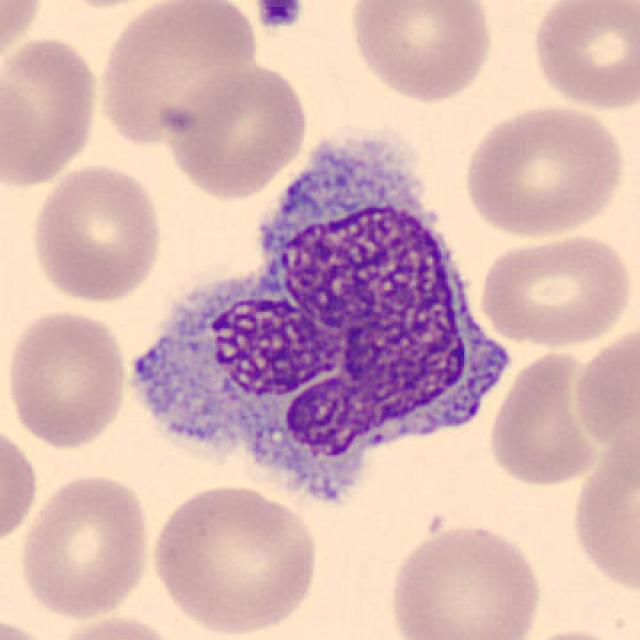Monocyte: (123, 122, 521, 529)
Platelets: (254, 0, 308, 32)
RBC: (146, 482, 324, 638), (93, 0, 260, 148), (459, 98, 629, 242), (160, 58, 311, 201), (16, 469, 155, 622), (25, 160, 167, 305), (384, 518, 546, 640), (474, 229, 636, 349), (2, 305, 130, 451), (485, 344, 610, 490), (0, 32, 105, 190), (345, 0, 498, 106), (567, 416, 640, 601), (526, 0, 638, 113), (569, 319, 638, 455), (0, 420, 41, 550), (46, 612, 187, 640), (0, 0, 48, 76), (507, 626, 633, 640), (0, 613, 62, 640)
